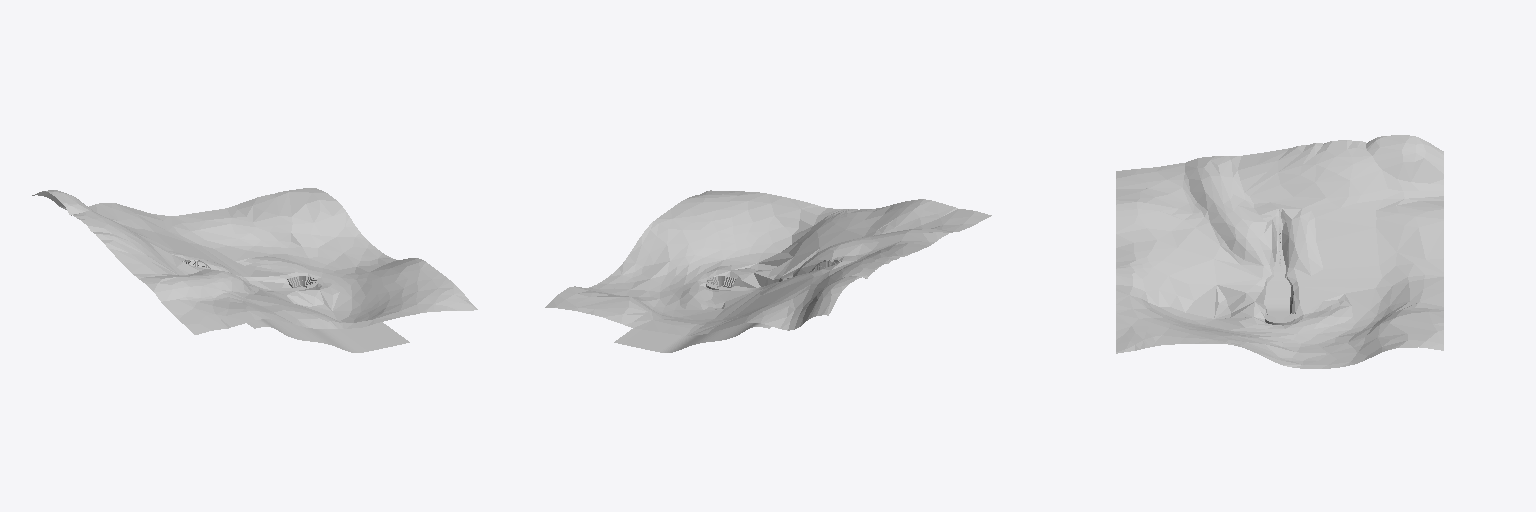
3 renders of one model, left to right at view 1: azimuth 30°, elevation 25°; view 2: azimuth 150°, elevation 25°; view 3: azimuth 270°, elevation 25°, orthographic.
Visible parts, largest first — view 1: MOUNTAIN_Mesh.026, LANDING_BezierCurve; view 2: MOUNTAIN_Mesh.026, LANDING_BezierCurve; view 3: MOUNTAIN_Mesh.026, LANDING_BezierCurve.
Boxes of the visible parts, box(x1,y1,x2,y2) form: MOUNTAIN_Mesh.026: box(32, 188, 477, 334); LANDING_BezierCurve: box(247, 283, 409, 352); MOUNTAIN_Mesh.026: box(545, 190, 991, 335); LANDING_BezierCurve: box(614, 282, 779, 352); MOUNTAIN_Mesh.026: box(1116, 135, 1443, 368); LANDING_BezierCurve: box(1264, 219, 1290, 322).
Bounding box in the file's own units: 1007 × 346 × 1000.